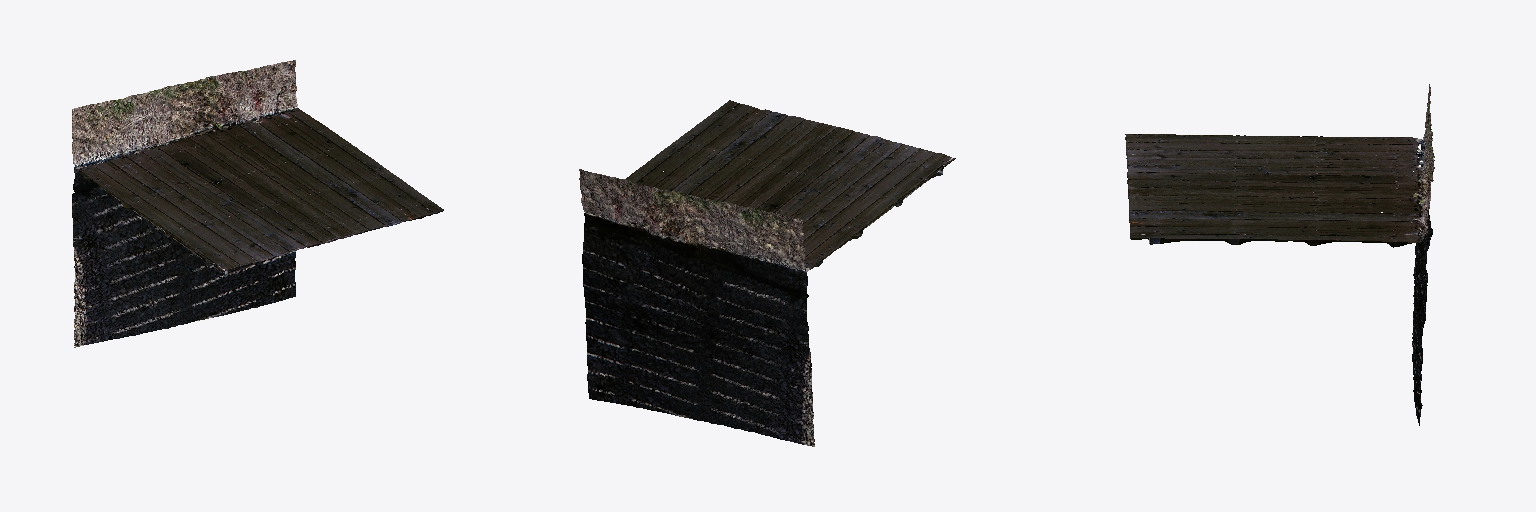
The picture shows the model from 3 angles: view 1: azimuth 30°, elevation 25°; view 2: azimuth 150°, elevation 25°; view 3: azimuth 270°, elevation 25°; orthographic projection.
Size of the model in its own units: 1.98 by 1.96 by 2.32.
2 materials, 1 textured.